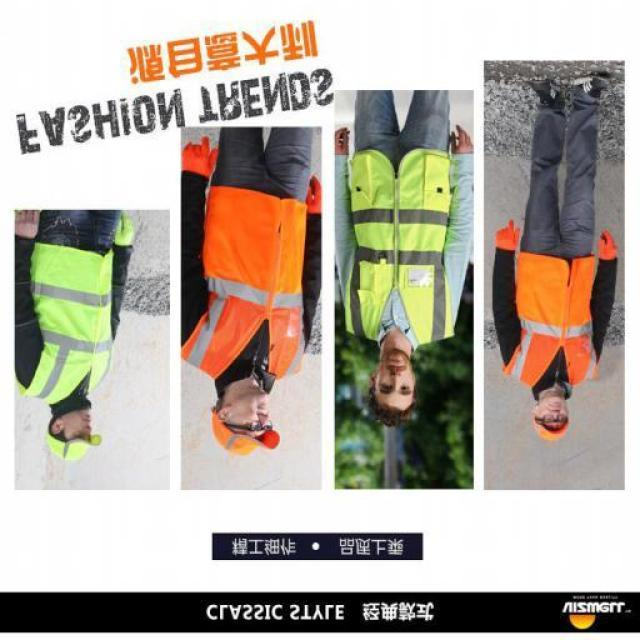gloves: (178, 134, 224, 182), (104, 212, 136, 253), (296, 176, 324, 222), (490, 217, 521, 254), (593, 227, 621, 264)
goggles: (239, 417, 275, 435), (538, 414, 569, 426)
